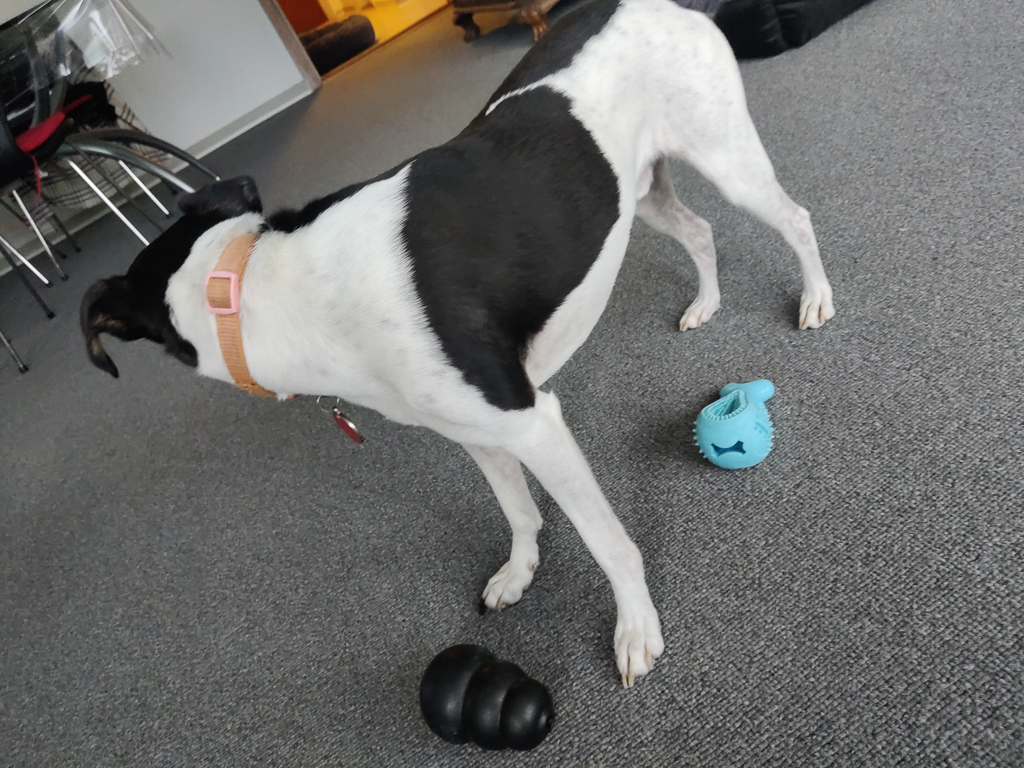Dog: (71, 0, 847, 700)
